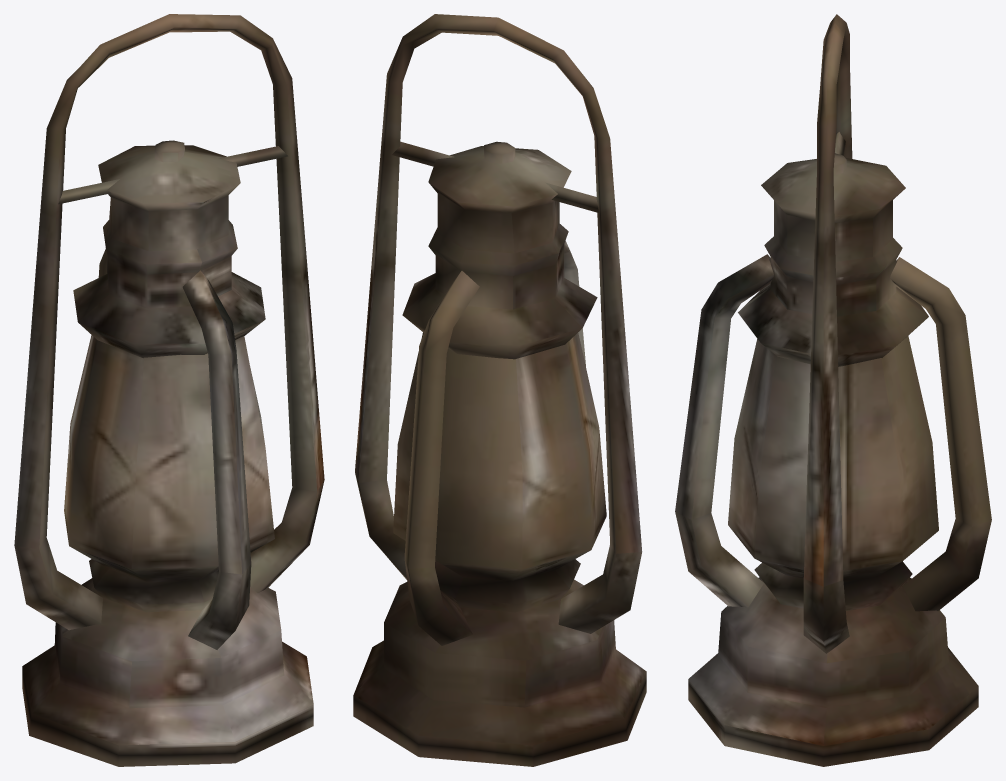
File: lantern.glb
3 views of the same model, side by side, from view 1: azimuth 30°, elevation 25°; view 2: azimuth 150°, elevation 25°; view 3: azimuth 270°, elevation 25° (orthographic). The views are drawn at different scales.
Visible parts, largest first — view 1: tripo_node_44314f59-5ad9-43d8-91f2-adc7485dc3fa; view 2: tripo_node_44314f59-5ad9-43d8-91f2-adc7485dc3fa; view 3: tripo_node_44314f59-5ad9-43d8-91f2-adc7485dc3fa.
Part boxes in pixels (<box>): tripo_node_44314f59-5ad9-43d8-91f2-adc7485dc3fa: <box>14,14,324,766</box>; tripo_node_44314f59-5ad9-43d8-91f2-adc7485dc3fa: <box>353,14,646,766</box>; tripo_node_44314f59-5ad9-43d8-91f2-adc7485dc3fa: <box>675,14,991,766</box>.
Bounding box in the file's own units: 0.4533 × 1 × 0.4267.
Materials: 1 (1 with a texture image).
